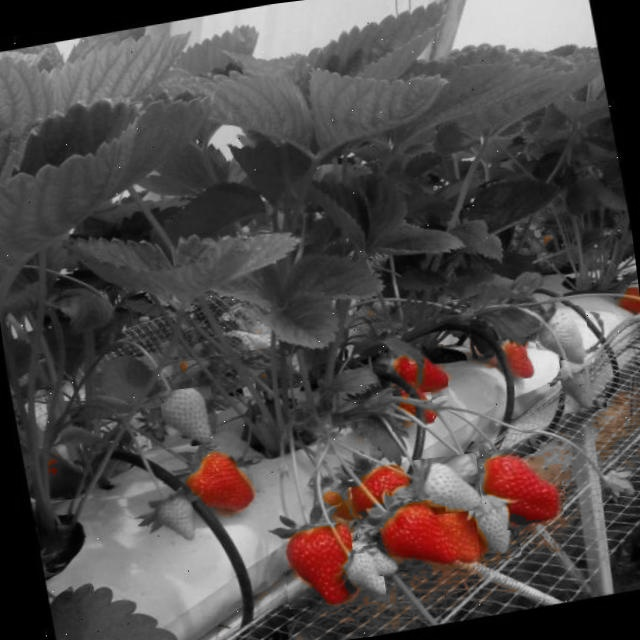ripe: (478, 450, 564, 532), (280, 521, 359, 609), (374, 498, 452, 576), (344, 463, 409, 523), (387, 344, 449, 402), (429, 510, 481, 571), (36, 443, 86, 502), (492, 336, 540, 382), (388, 391, 435, 431), (612, 286, 640, 318)
unripe: (457, 487, 521, 563), (412, 452, 482, 519), (532, 304, 592, 369), (158, 386, 218, 450), (143, 489, 197, 548), (558, 355, 608, 413), (339, 550, 387, 605), (363, 541, 407, 578)
